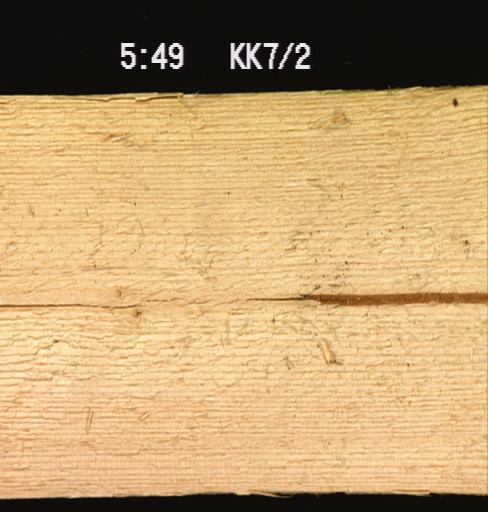split: (0, 297, 142, 311), (63, 91, 187, 101)
